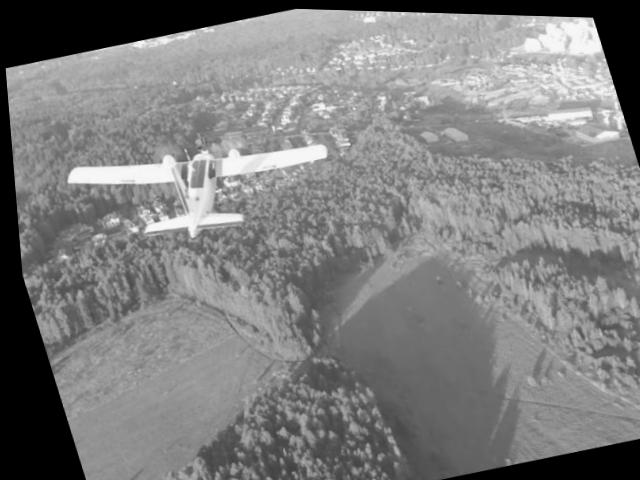hedef: (32, 92, 367, 281)
